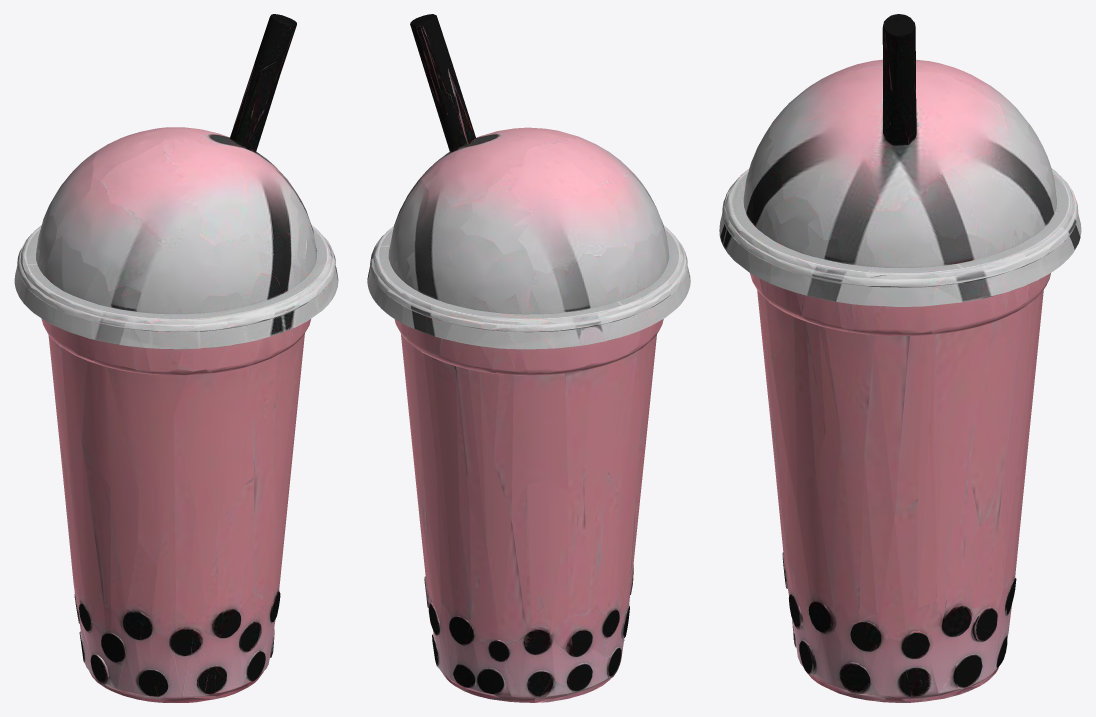
Rendered from addy_lunch_boba.glb.
3 renders of one model, left to right at view 1: azimuth 30°, elevation 25°; view 2: azimuth 150°, elevation 25°; view 3: azimuth 270°, elevation 25°, orthographic. The views are drawn at different scales.
Size of the model in its own units: 0.8924 by 1.9 by 0.8927.
1 material, 1 textured.
